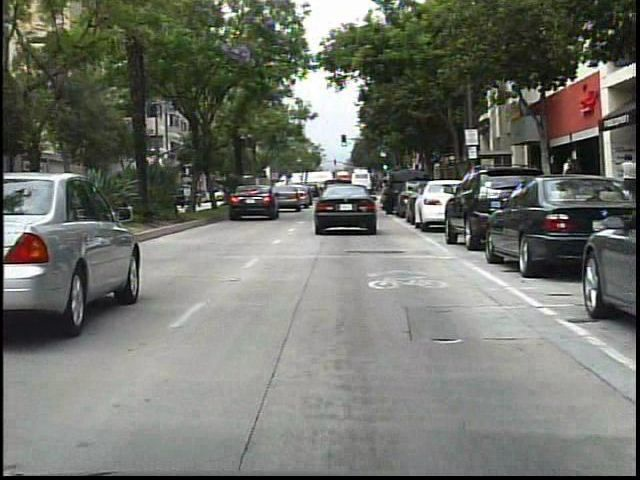person: (559, 155, 584, 223), (555, 156, 582, 218), (613, 150, 637, 215)
